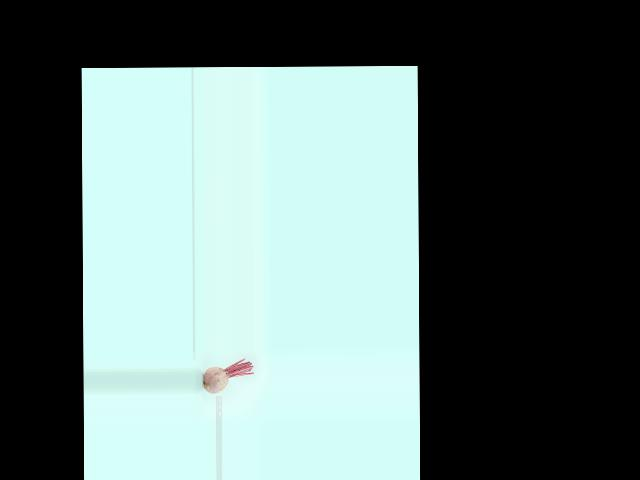beet: (202, 358, 253, 394)
